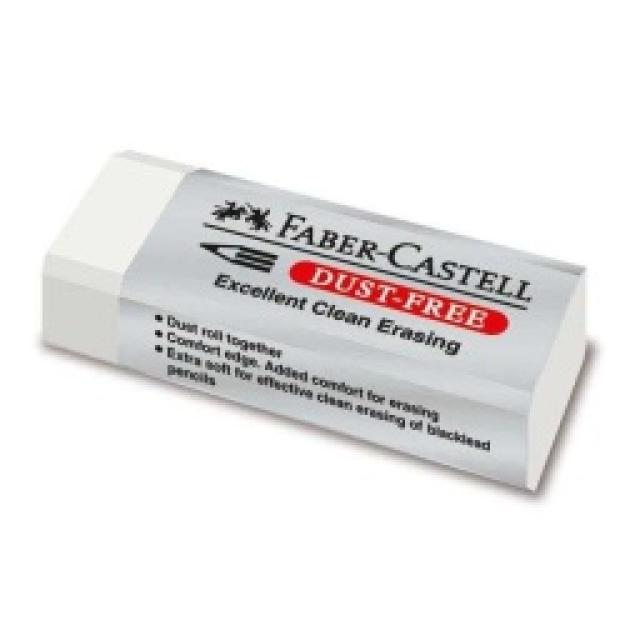Silgi: (39, 149, 592, 495)
